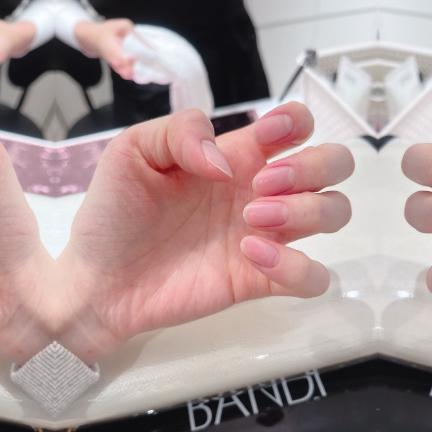Nail: (251, 165, 296, 196), (253, 114, 294, 145), (200, 140, 232, 178), (240, 236, 278, 267), (243, 202, 289, 227)
